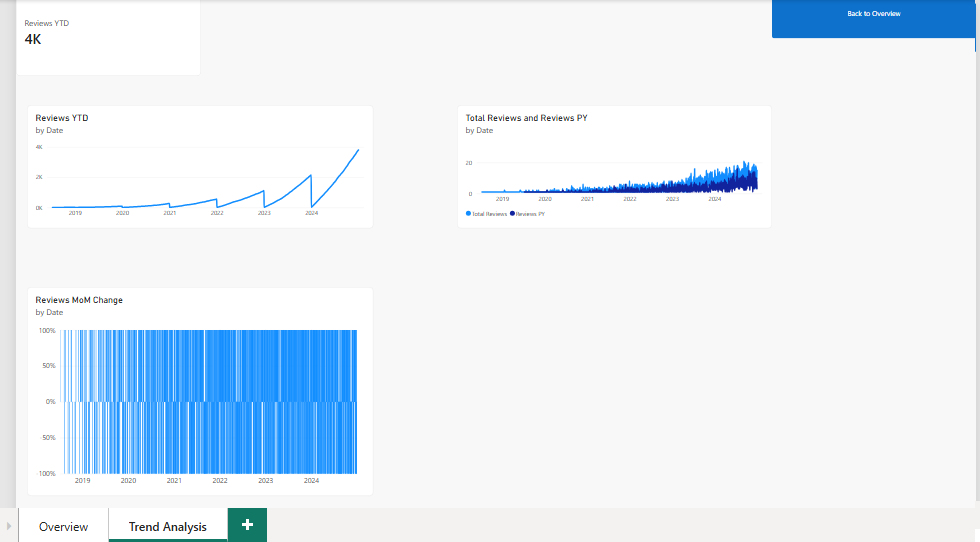

The dashboard page shown, as its layout file describes it:
{"tool":"powerbi","page":{"name":"Trend Analysis","canvas":[1920,1080],"ordinal":1},"visuals":[{"type":"actionButton","box":[1511.8,0,408.2,100.8],"z":0},{"type":"cardVisual","fields":{"Data":["reviews.Reviews YTD"]},"box":[0,0,370.4,176.4],"z":1},{"type":"lineChart","fields":{"Category":["dim_date.Date"],"Y":["reviews.Reviews YTD"]},"box":[22.7,234.3,692.9,246.9],"z":2},{"type":"lineChart","fields":{"Category":["dim_date.Date"],"Y":["reviews.Total Reviews","reviews.Reviews PY"]},"box":[881.9,234.3,629.9,246.9],"z":3},{"type":"hundredPercentStackedColumnChart","fields":{"Category":["dim_date.Date"],"Y":["reviews.Reviews MoM Change"]},"box":[22.7,597.2,692.9,418.3],"z":4}]}

Visuals, with their boxes on the page's 1920x1080 design canvas (x1, y1, x2, y2). These are canvas units, not pixel positions in the 980x542 screenshot, which may show the page scaled, cropped or inside an application window:
actionButton: detection(1512, 0, 1920, 101)
cardVisual - reviews.Reviews YTD: detection(0, 0, 370, 176)
lineChart - dim_date.Date x reviews.Reviews YTD: detection(23, 234, 716, 481)
lineChart - dim_date.Date x reviews.Total Reviews: detection(882, 234, 1512, 481)
hundredPercentStackedColumnChart - dim_date.Date x reviews.Reviews MoM Change: detection(23, 597, 716, 1016)
